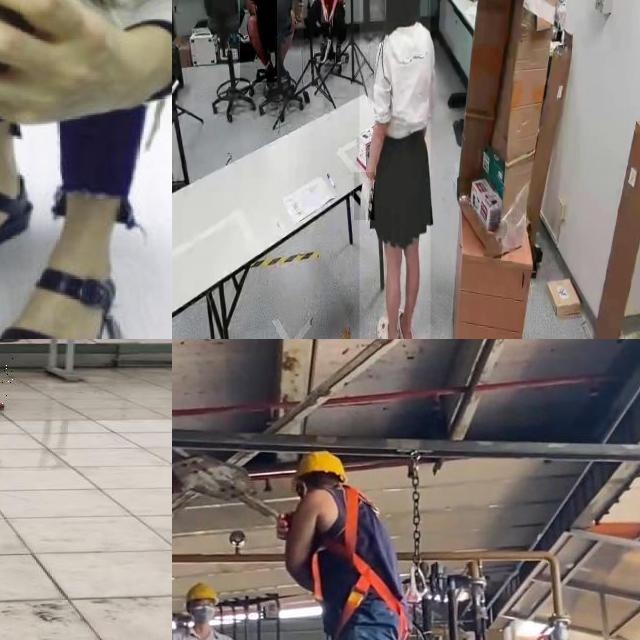Harness: (304, 478, 407, 640)
Sandals: (0, 235, 137, 339)
boots: (0, 374, 9, 411)
hand_glove: (354, 172, 375, 221)
hand_noglove: (289, 8, 297, 34), (321, 5, 329, 24), (328, 9, 334, 32)
person: (359, 0, 430, 339), (303, 0, 346, 73), (240, 0, 277, 83)
